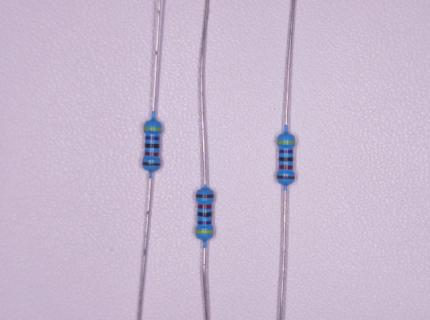Black band: (145, 143, 160, 149), (279, 157, 294, 162), (197, 212, 212, 217)
Brown band: (276, 174, 295, 179), (142, 162, 161, 166), (196, 194, 214, 198)
Red band: (145, 151, 159, 157), (197, 204, 212, 209), (279, 165, 293, 170)
Violet band: (279, 149, 294, 154), (144, 136, 160, 140), (197, 221, 212, 225)
Yellow band: (143, 126, 162, 131), (195, 229, 214, 234), (277, 140, 295, 145)
